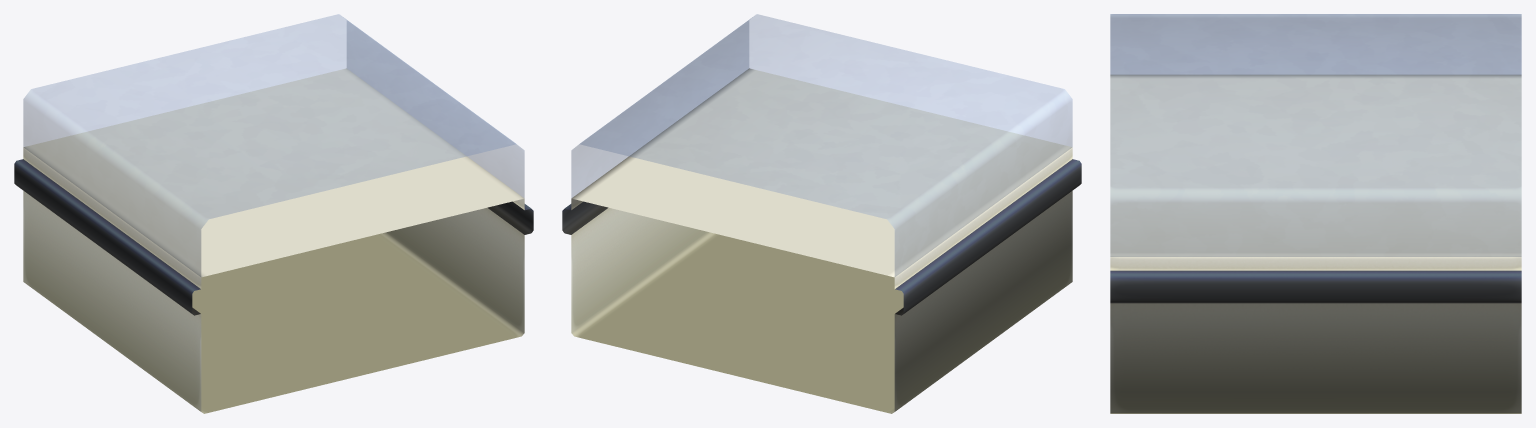
Rendered from LP_Showcases_Central.fbx.
3 views of the same model, side by side, from view 1: azimuth 30°, elevation 25°; view 2: azimuth 150°, elevation 25°; view 3: azimuth 270°, elevation 25° (orthographic). The views are drawn at different scales.
Visible parts, largest first — view 1: Showcase_Central; view 2: Showcase_Central; view 3: Showcase_Central.
Boxes of the visible parts, bbox=[...] form: Showcase_Central: bbox=[14, 14, 533, 413]; Showcase_Central: bbox=[562, 14, 1081, 413]; Showcase_Central: bbox=[1110, 14, 1521, 413].
Size of the model in its own units: 111 by 60 by 100.
